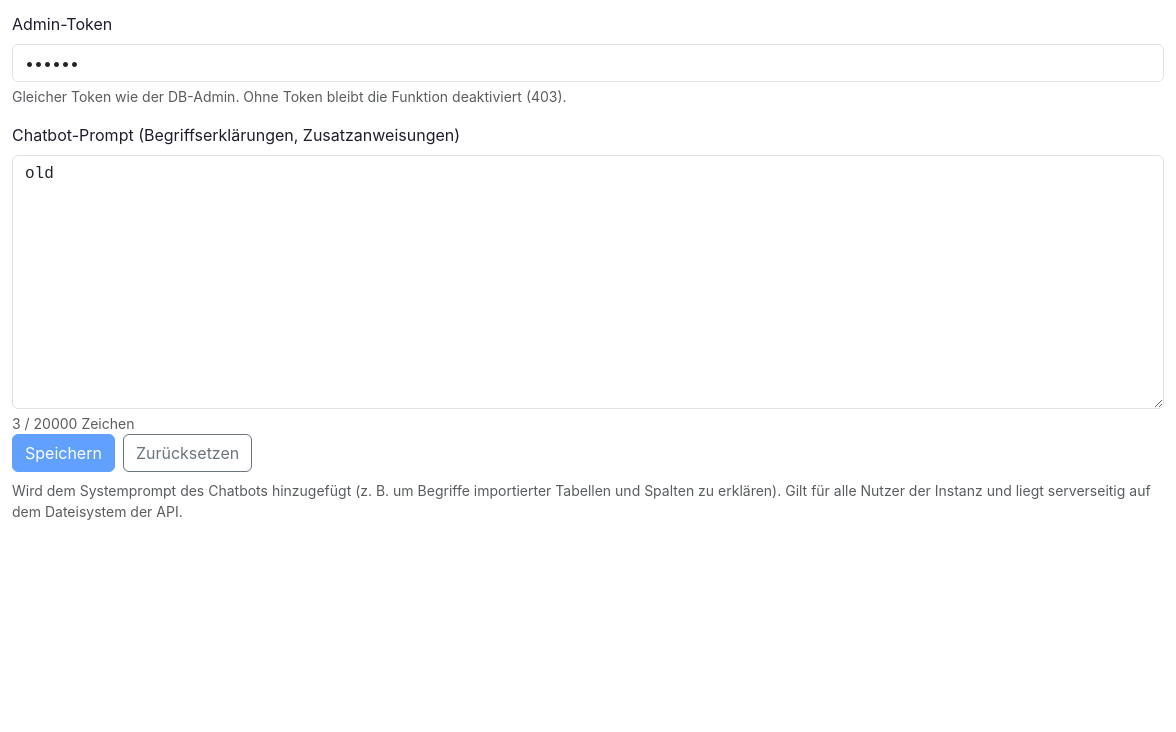
Scenario: PromptTab › saves edited content via PUT and reports success
Type "X" into the text box labelled "Chatbot-Prompt (Begriffserklärungen, Zusatzanweisungen)" at (588, 282), box top-left (12, 155), bottom-right (1164, 409)
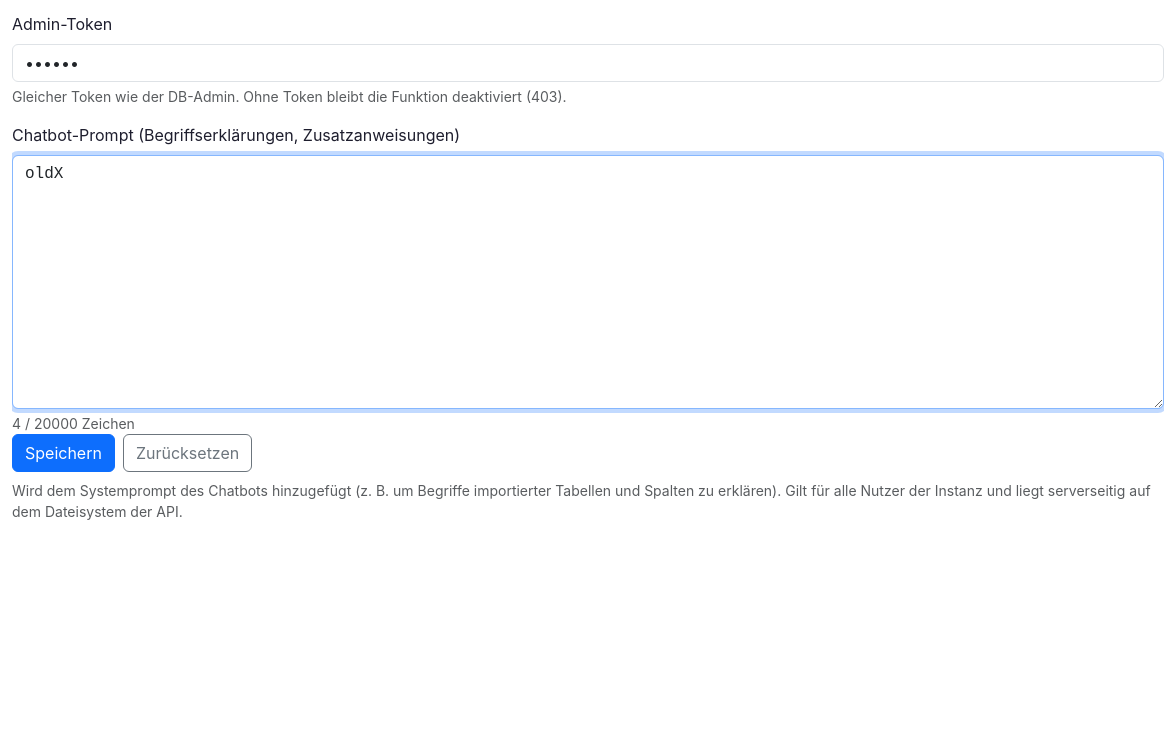
Check: the button "Speichern" is enabled
Click the button "Speichern" at (63, 453), box top-left (12, 434), bottom-right (115, 472)
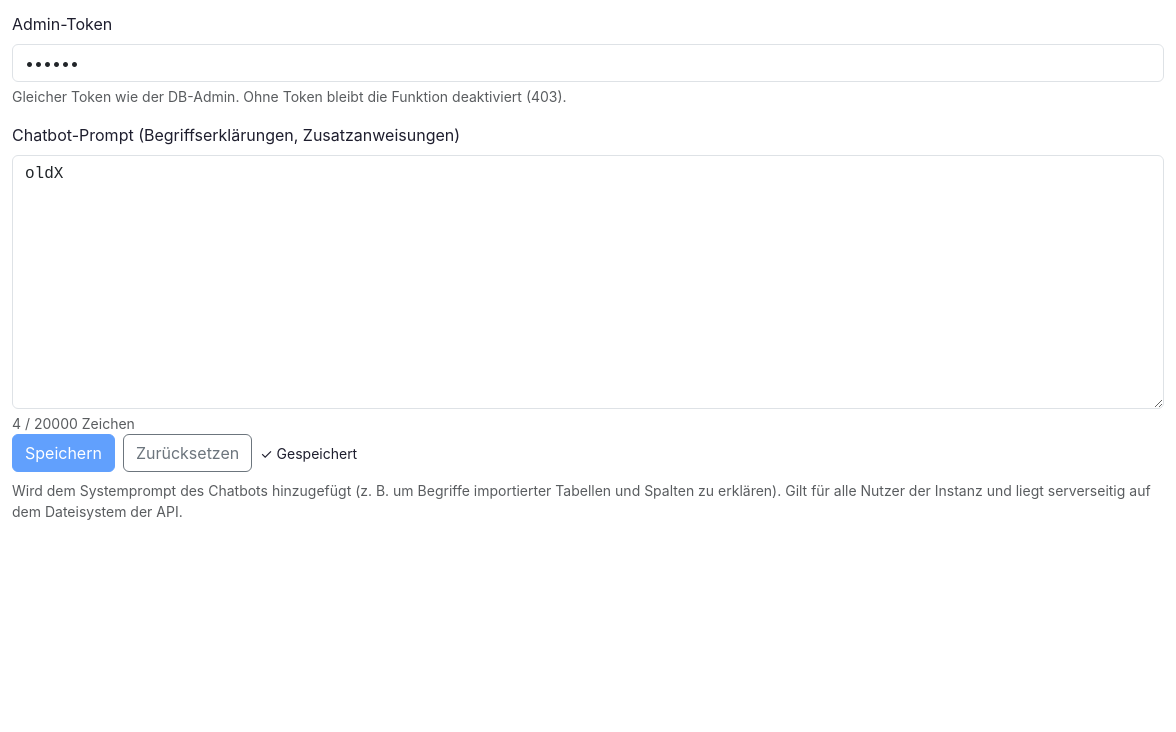
Check: the message shows "Gespeichert", box top-left (260, 444), bottom-right (357, 462)
